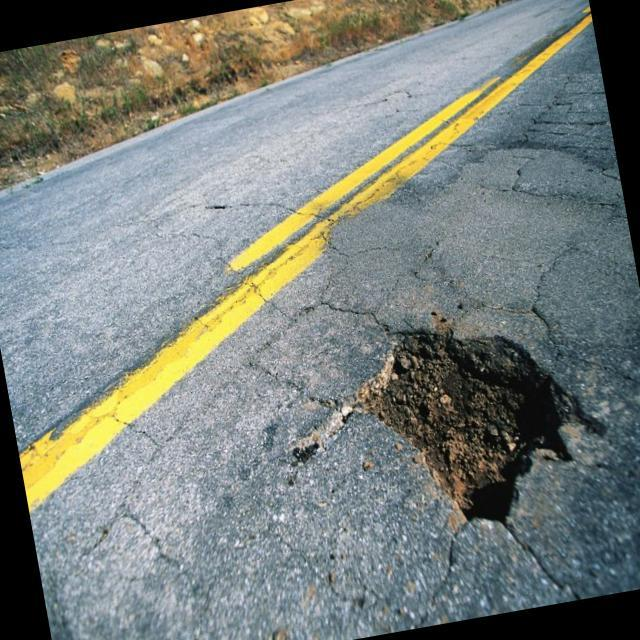Pothole: (264, 264, 626, 582)
